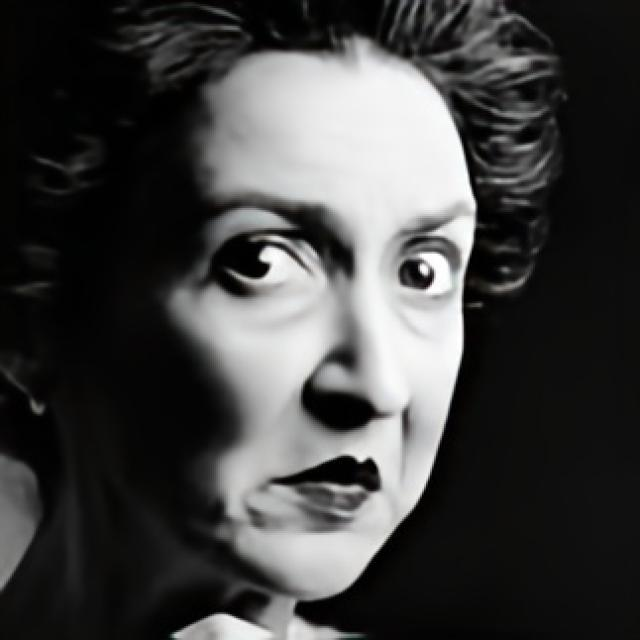disgust: (54, 28, 478, 602)
